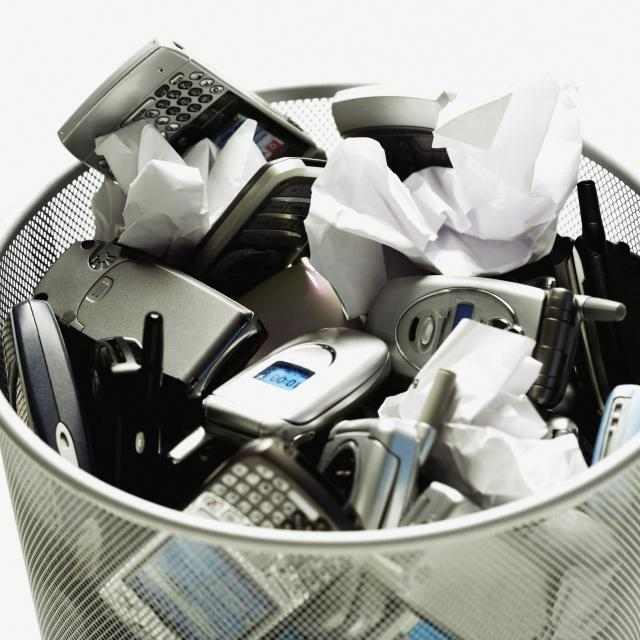hazard: (67, 74, 638, 507)
